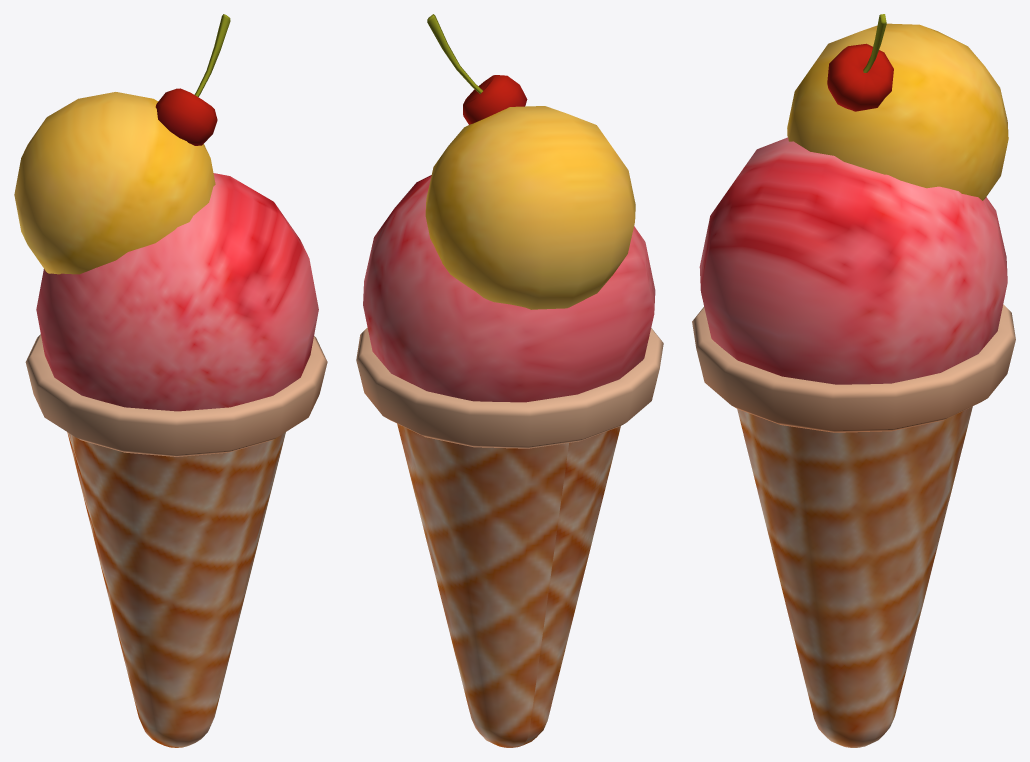
File: Ice_cream_3.fbx
3 views of the same model, side by side, from view 1: azimuth 30°, elevation 25°; view 2: azimuth 150°, elevation 25°; view 3: azimuth 270°, elevation 25° (orthographic). The views are drawn at different scales.
Visible parts, largest first — view 1: Ice_cream_3; view 2: Ice_cream_3; view 3: Ice_cream_3.
Part boxes in pixels (left/top/right/bottom): Ice_cream_3: left=14, top=14, right=327, bottom=747; Ice_cream_3: left=356, top=14, right=663, bottom=747; Ice_cream_3: left=692, top=14, right=1015, bottom=747.
Size of the model in its own units: 5.53 by 14.42 by 5.53.
